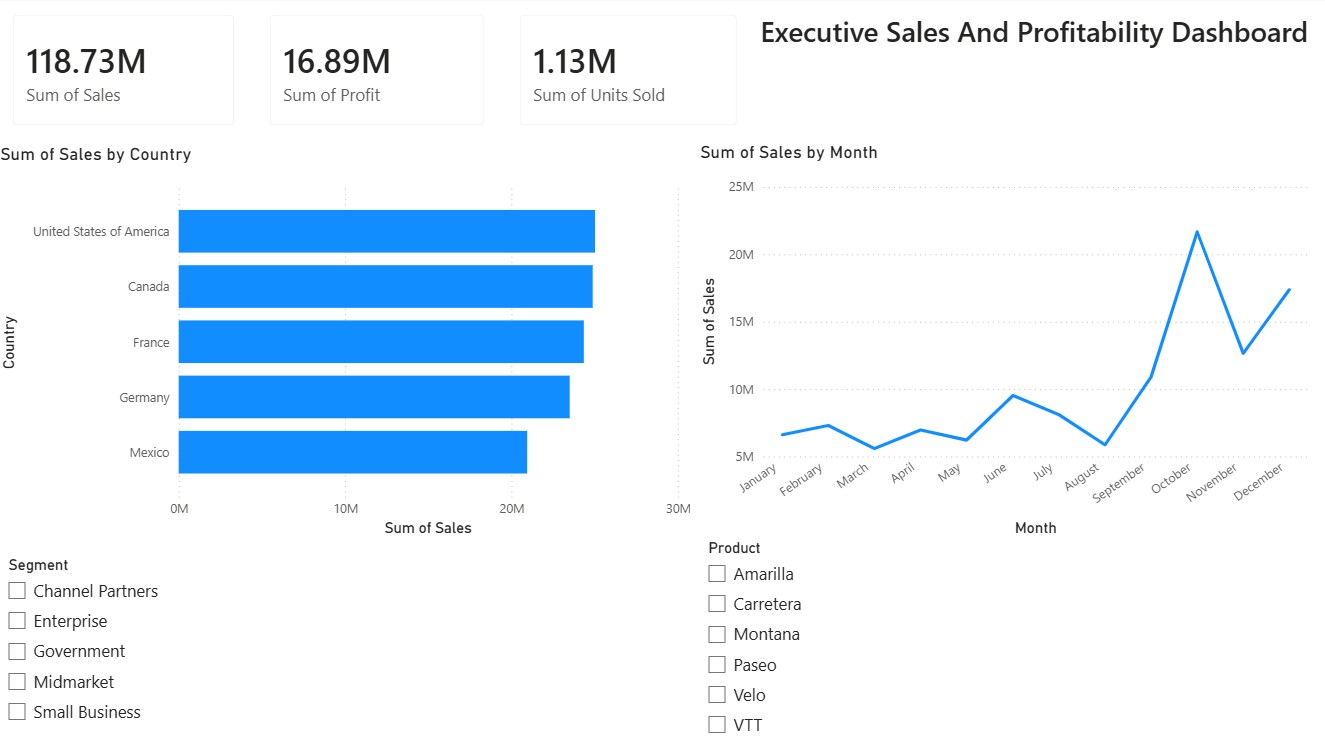

The dashboard page shown, as its layout file describes it:
{"tool":"powerbi","page":{"name":"Page 1","canvas":[1280,720],"ordinal":0},"visuals":[{"type":"cardVisual","fields":{"Data":["Sum(financials.Sales)"]},"box":[0,0,246.1,140.1],"z":0},{"type":"cardVisual","fields":{"Data":["Sum(financials.Profit)"]},"box":[246.1,0,239.3,140.1],"z":1000},{"type":"cardVisual","fields":{"Data":["Sum(financials.Units Sold)"]},"box":[485.3,0,242.2,140.1],"z":2000},{"type":"clusteredBarChart","fields":{"Category":["financials.Country"],"Y":["Sum(financials.Sales)"]},"box":[0,140.1,671.1,381.3],"z":3000},{"type":"lineChart","fields":{"Category":["financials.Date.Variation.Date Hierarchy.Month","financials.Date.Variation.Date Hierarchy.Day"],"Y":["Sum(financials.Sales)"]},"box":[670.7,138,592.1,383.2],"z":4000},{"type":"slicer","fields":{"Values":["financials.Segment"]},"box":[0,531,671,189],"z":4001},{"type":"slicer","fields":{"Values":["financials.Product"]},"box":[670.7,514.5,592.1,205],"z":4002},{"type":"textbox","box":[728.1,9.6,551.9,119.8],"z":4003}]}

Visuals, with their boxes in screenshot pixels (x1, y1, x2, y2), scaled from the page's 1280x720 canvas onto the 1325x745 screenshot:
cardVisual - Sum(financials.Sales): region(0, 0, 255, 145)
cardVisual - Sum(financials.Profit): region(255, 0, 502, 145)
cardVisual - Sum(financials.Units Sold): region(502, 0, 753, 145)
clusteredBarChart - financials.Country x Sum(financials.Sales): region(0, 145, 695, 540)
lineChart - financials.Date.Variation.Date Hierarchy.Month x financials.Date.Variation.Date Hierarchy.Day: region(694, 143, 1307, 539)
slicer - financials.Segment: region(0, 549, 695, 744)
slicer - financials.Product: region(694, 532, 1307, 744)
textbox: region(754, 10, 1324, 134)
